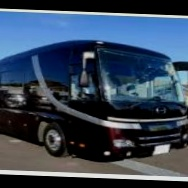bus: (0, 33, 188, 166)
